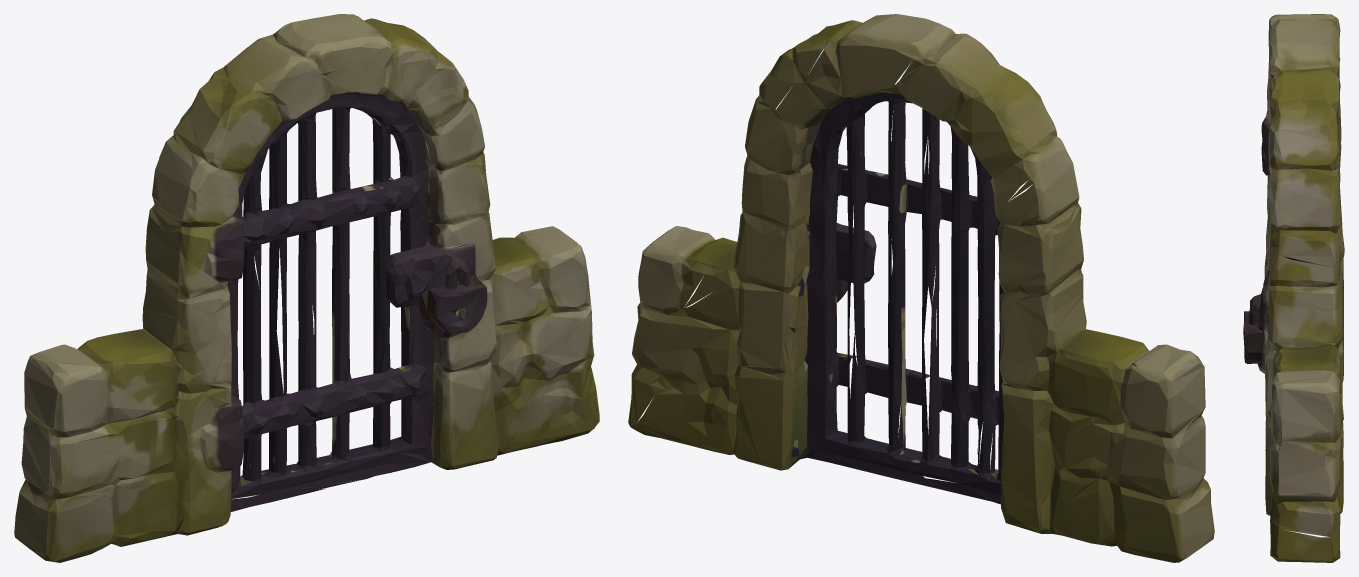
File: door_cell.glb
3 renders of one model, left to right at view 1: azimuth 30°, elevation 25°; view 2: azimuth 150°, elevation 25°; view 3: azimuth 270°, elevation 25°, orthographic. The views are drawn at different scales.
Parts seen in each view (by area): view 1: geometry_0; view 2: geometry_0; view 3: geometry_0.
Boxes of the visible parts, bbox=[...] form: geometry_0: bbox=[14, 14, 599, 562]; geometry_0: bbox=[628, 14, 1214, 562]; geometry_0: bbox=[1243, 14, 1344, 562].
Size of the model in its own units: 1.45 by 1.14 by 0.2487.
1 material, 1 textured.
